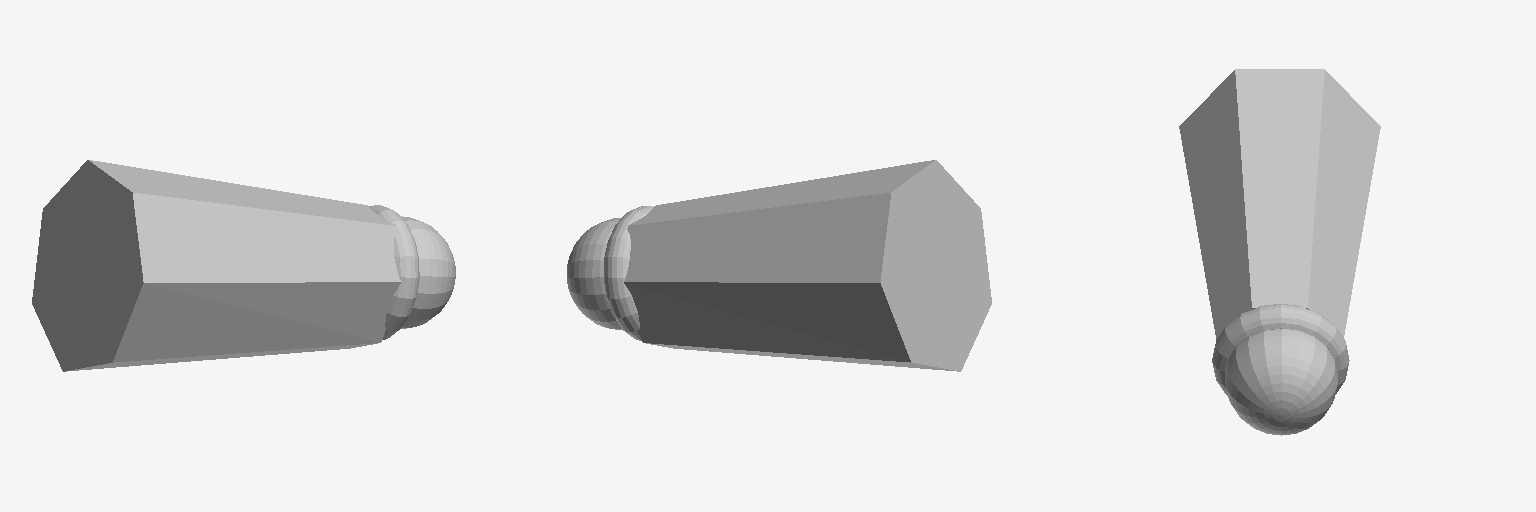
Rendered from bottle.obj.
3 views of the same model, side by side, from view 1: azimuth 30°, elevation 25°; view 2: azimuth 150°, elevation 25°; view 3: azimuth 270°, elevation 25° (orthographic).
Parts seen in each view (by area): view 1: pCylinder1, pSphere1, pTorus1; view 2: pCylinder1, pSphere1, pTorus1; view 3: pCylinder1, pSphere1, pTorus1.
Boxes of the visible parts, x1=… form: pCylinder1: x1=32, y1=160, x2=401, y2=371; pSphere1: x1=401, y1=216, x2=455, y2=328; pTorus1: x1=370, y1=205, x2=419, y2=339; pCylinder1: x1=624, y1=160, x2=991, y2=371; pSphere1: x1=567, y1=218, x2=623, y2=330; pTorus1: x1=604, y1=206, x2=652, y2=340; pCylinder1: x1=1179, y1=69, x2=1380, y2=339; pSphere1: x1=1225, y1=329, x2=1337, y2=435; pTorus1: x1=1212, y1=304, x2=1349, y2=395.
Size of the model in its own units: 4.19 by 2.4 by 1.89.